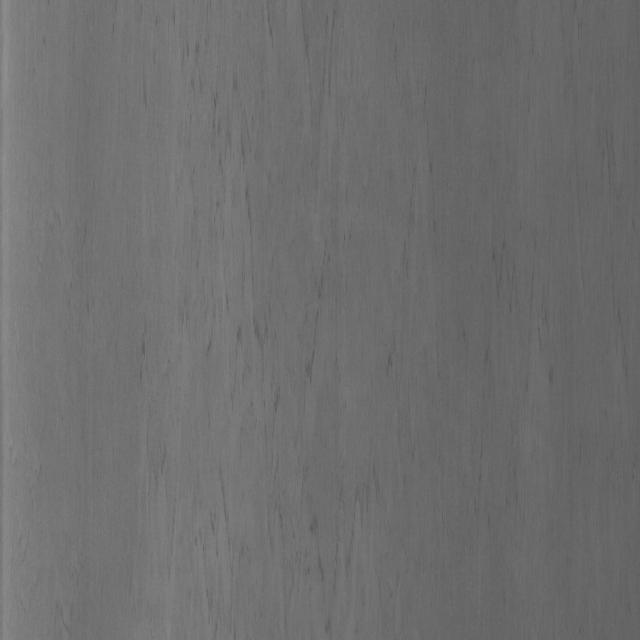inclusion: (190, 59, 375, 623)
